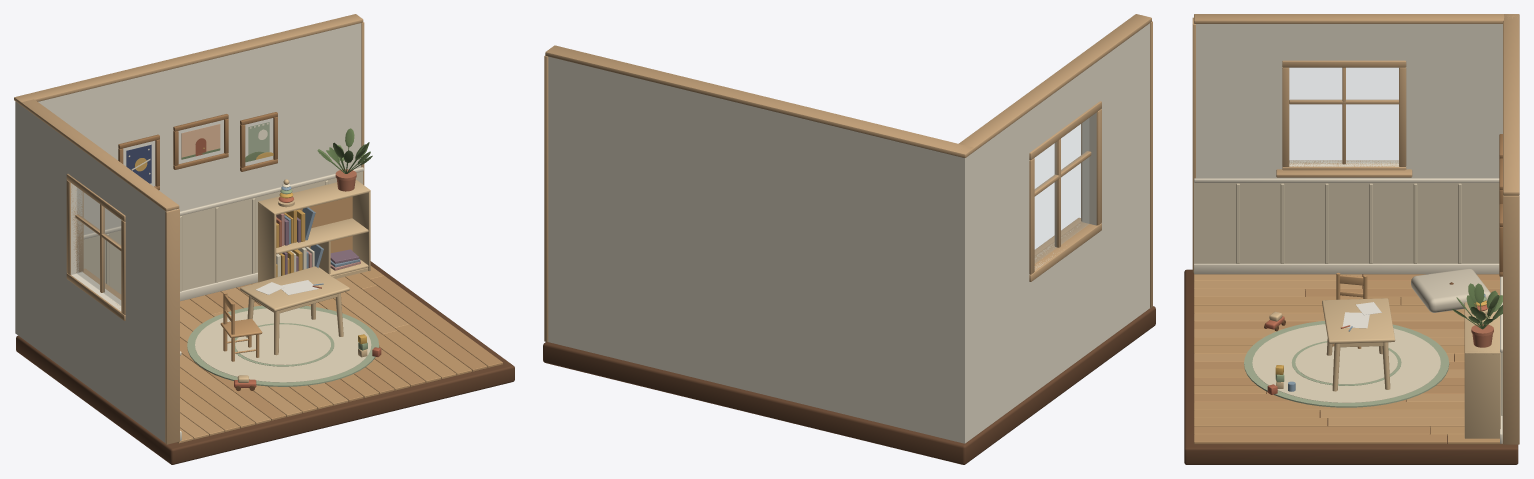
Rendered from little-room.glb.
The picture shows the model from 3 angles, left to right: view 1: azimuth 30°, elevation 25°; view 2: azimuth 150°, elevation 25°; view 3: azimuth 270°, elevation 25°; orthographic projection. The views are drawn at different scales.
Visible parts, largest first — view 1: wall_back, wall_left, floor_oak, wall_trim, rug_round, room_base, bookshelf, window_glass, window, table_child, frame_secret_room, plant_potted (+9 smaller); view 2: wall_back, wall_left, room_base, wall_trim, window_glass, window; view 3: wall_trim, wall_left, floor_oak, rug_round, window_glass, room_base, window, bookshelf, table_child, floor_cushion, plant_potted, table_drawing (+2 smaller).
Part boxes in pixels (bbox=[...]): wall_back: bbox=[15, 23, 361, 337]; wall_left: bbox=[22, 106, 177, 442]; floor_oak: bbox=[177, 266, 502, 443]; wall_trim: bbox=[14, 14, 364, 444]; rug_round: bbox=[187, 305, 379, 386]; room_base: bbox=[16, 261, 514, 464]; bookshelf: bbox=[258, 179, 370, 282]; window_glass: bbox=[77, 188, 120, 305]; window: bbox=[66, 174, 125, 320]; table_child: bbox=[240, 266, 349, 355]; frame_secret_room: bbox=[173, 114, 228, 169]; plant_potted: bbox=[317, 128, 372, 191]; wall_back: bbox=[548, 56, 972, 443]; wall_left: bbox=[973, 23, 1149, 437]; room_base: bbox=[543, 306, 1155, 464]; wall_trim: bbox=[544, 14, 1152, 341]; window_glass: bbox=[1035, 118, 1089, 262]; window: bbox=[1029, 101, 1101, 281]; wall_trim: bbox=[1192, 14, 1519, 444]; wall_left: bbox=[1196, 24, 1502, 178]; floor_oak: bbox=[1194, 274, 1502, 444]; rug_round: bbox=[1244, 321, 1449, 407]; window_glass: bbox=[1289, 68, 1398, 163]; room_base: bbox=[1184, 269, 1518, 464]; window: bbox=[1276, 60, 1412, 177]; bookshelf: bbox=[1464, 302, 1500, 438]; table_child: bbox=[1322, 298, 1395, 391]; floor_cushion: bbox=[1411, 268, 1490, 312]; plant_potted: bbox=[1452, 283, 1502, 347]; table_drawing: bbox=[1341, 302, 1381, 331].
Size of the model in its own units: 3.58 by 2.52 by 2.81.
